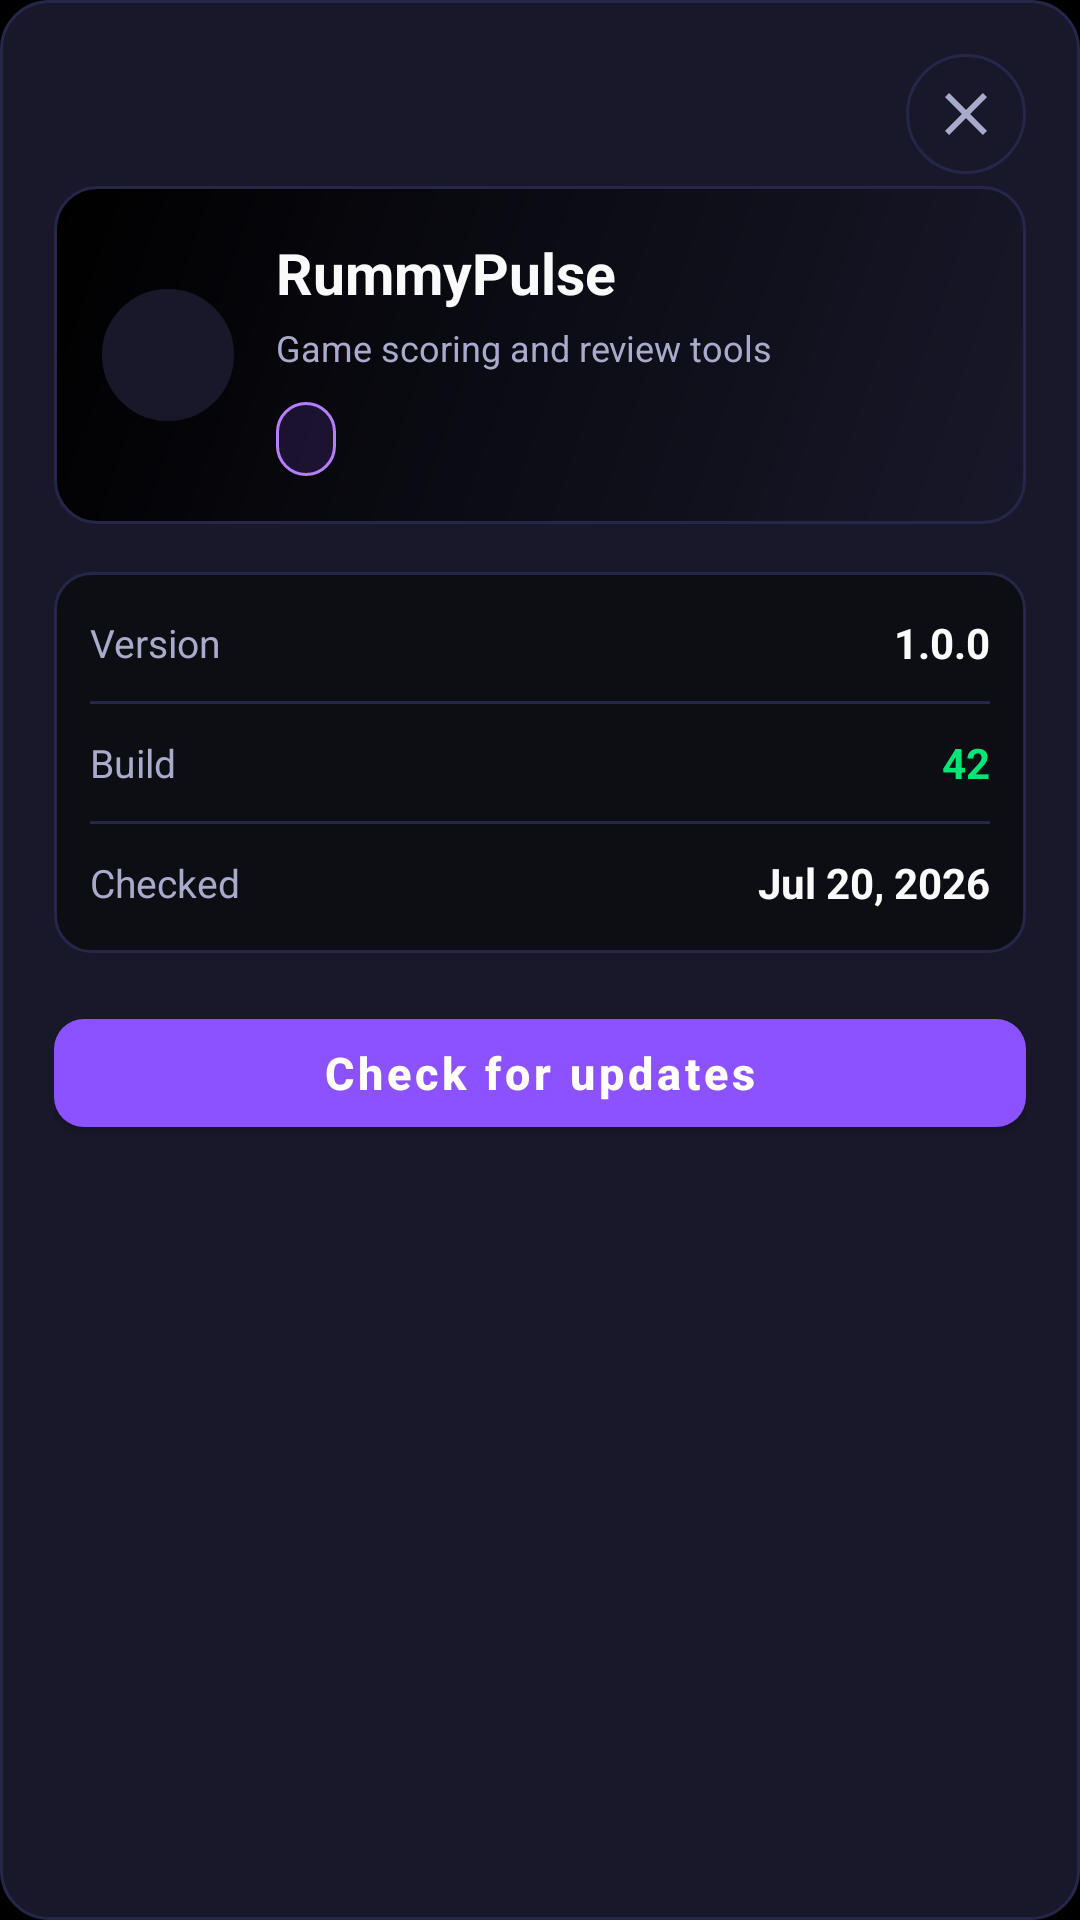

Where icons sit on this 1080 × 1920 app screen, as (x1, y1, x2, y2):
Close: (906, 54, 1026, 174)
